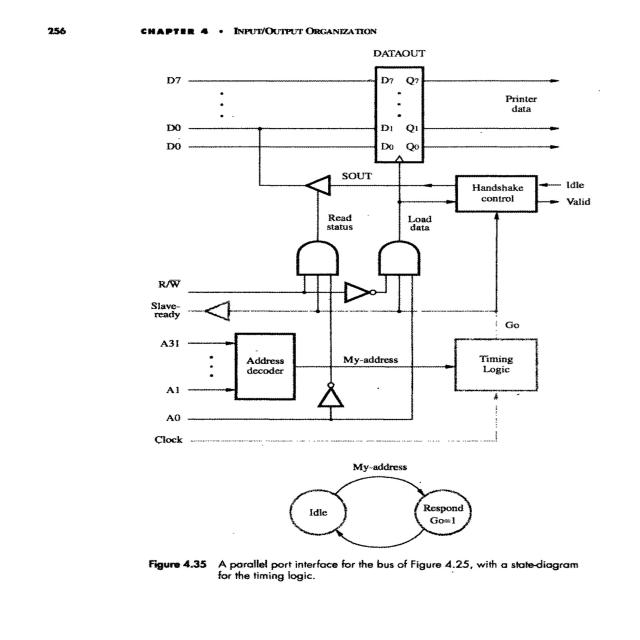diagram: (122, 28, 601, 620)
